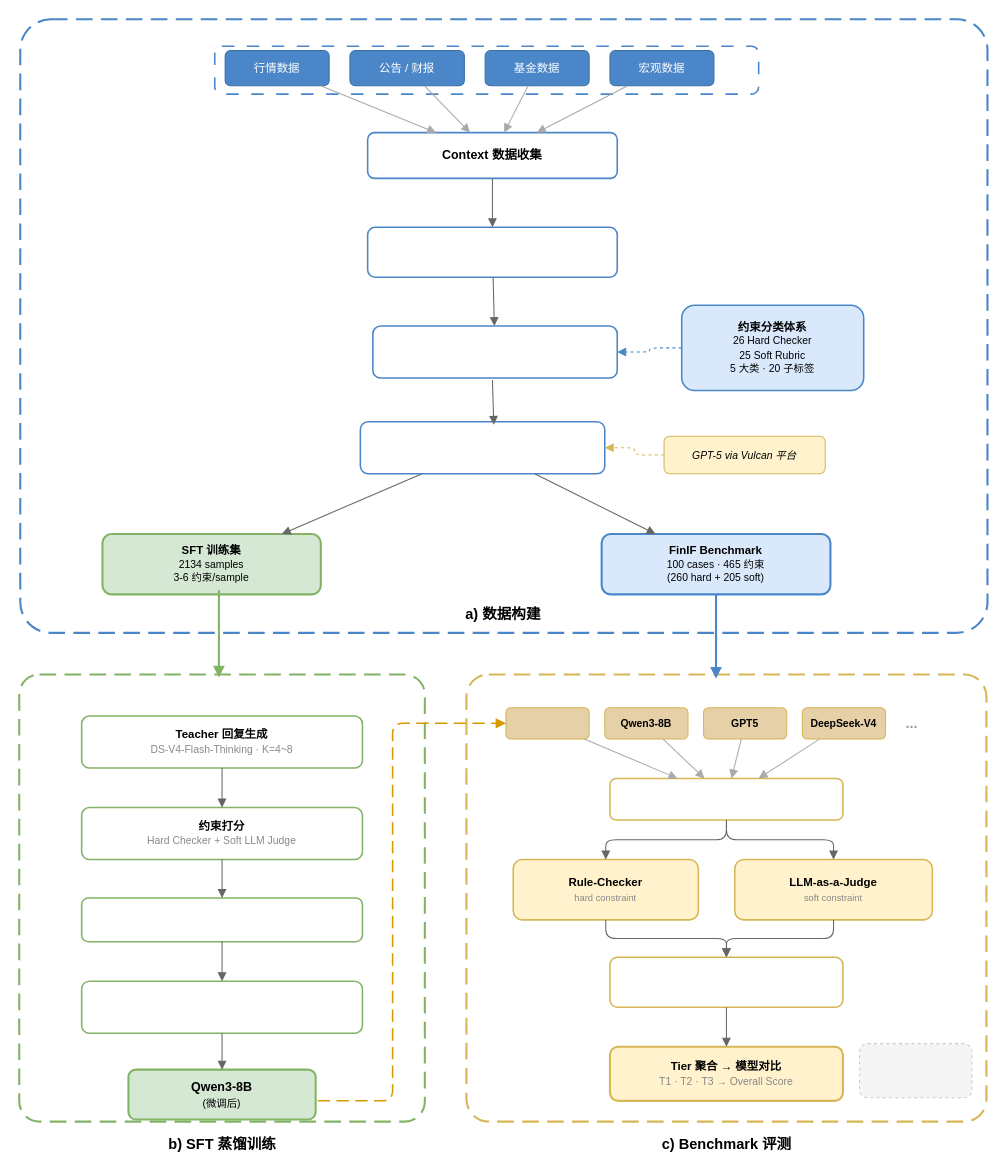
This 1006x1176 diagram has some shape labels left out. Each missing label, with the centre of its shape:
"GPT-5 82.4% GPT-4o 70.7% Qwen3 62.9%" goes at (x=915, y=1070).
"Query 合成 LLM 生成 + 人工抽检" goes at (x=492, y=251).
"Query 清洗 / 质量检查 格式指令 → 约束块" goes at (x=482, y=447).
"Qwen3 SFT 格式化 非思考模式 · 空 think 标签" goes at (x=221, y=1007).
"Qwen3-8B-sft" goes at (x=547, y=723).
"回复生成" goes at (x=726, y=798).
"拒绝采样 (τ = 0.7)" goes at (x=221, y=919).
"约束采样 + Prompt 组装 3-6 条/case · 冲突检测" goes at (x=495, y=351).
"逐 Case 评分 passed / total → compliance rate" goes at (x=726, y=982).
